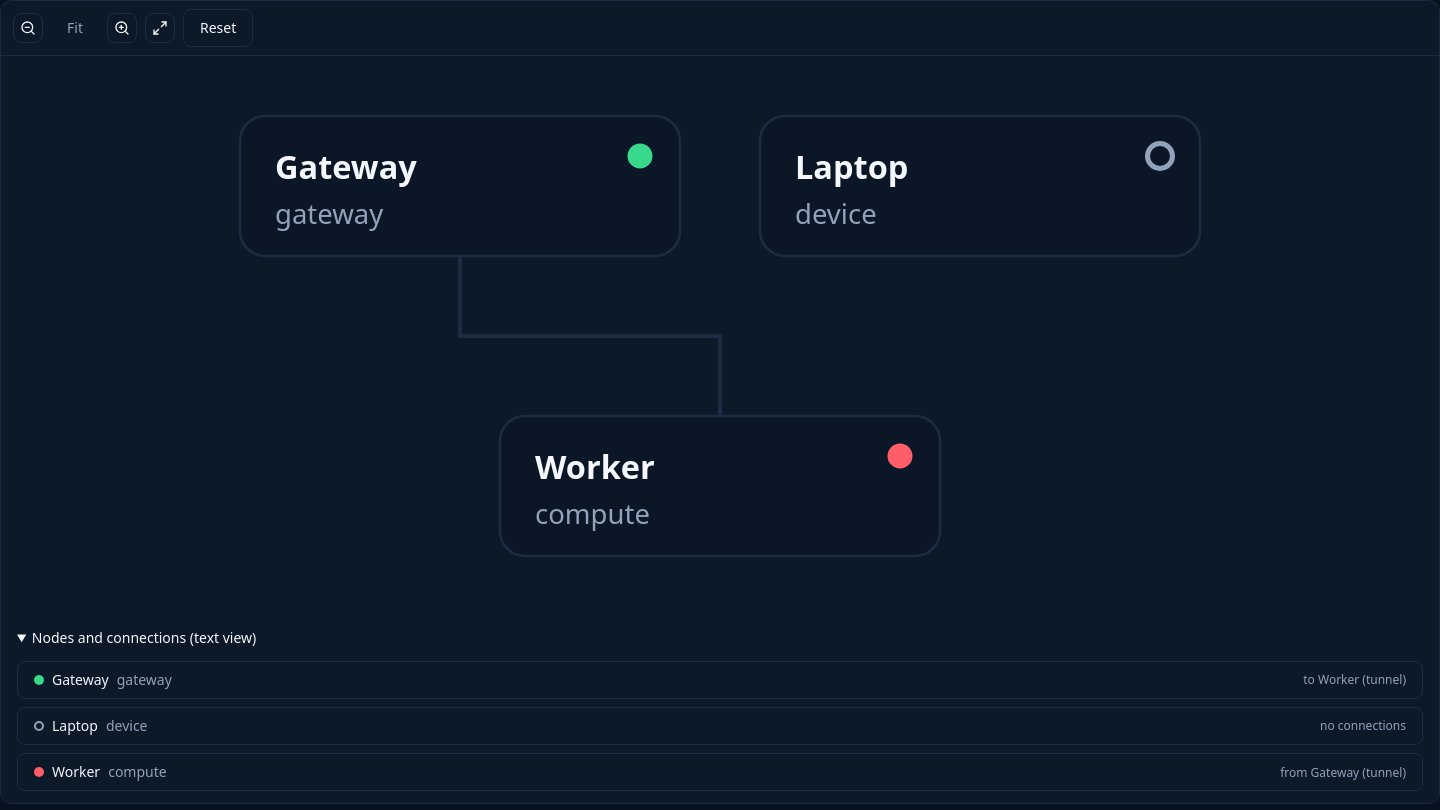
Test: TopologyView › zooms and resets
expect the text "Fit" is shown: met, box left=67, top=18, right=83, bottom=37
Click the button named "Zoom in". click: coordinates (122, 28)
box: left=107, top=13, right=137, bottom=43
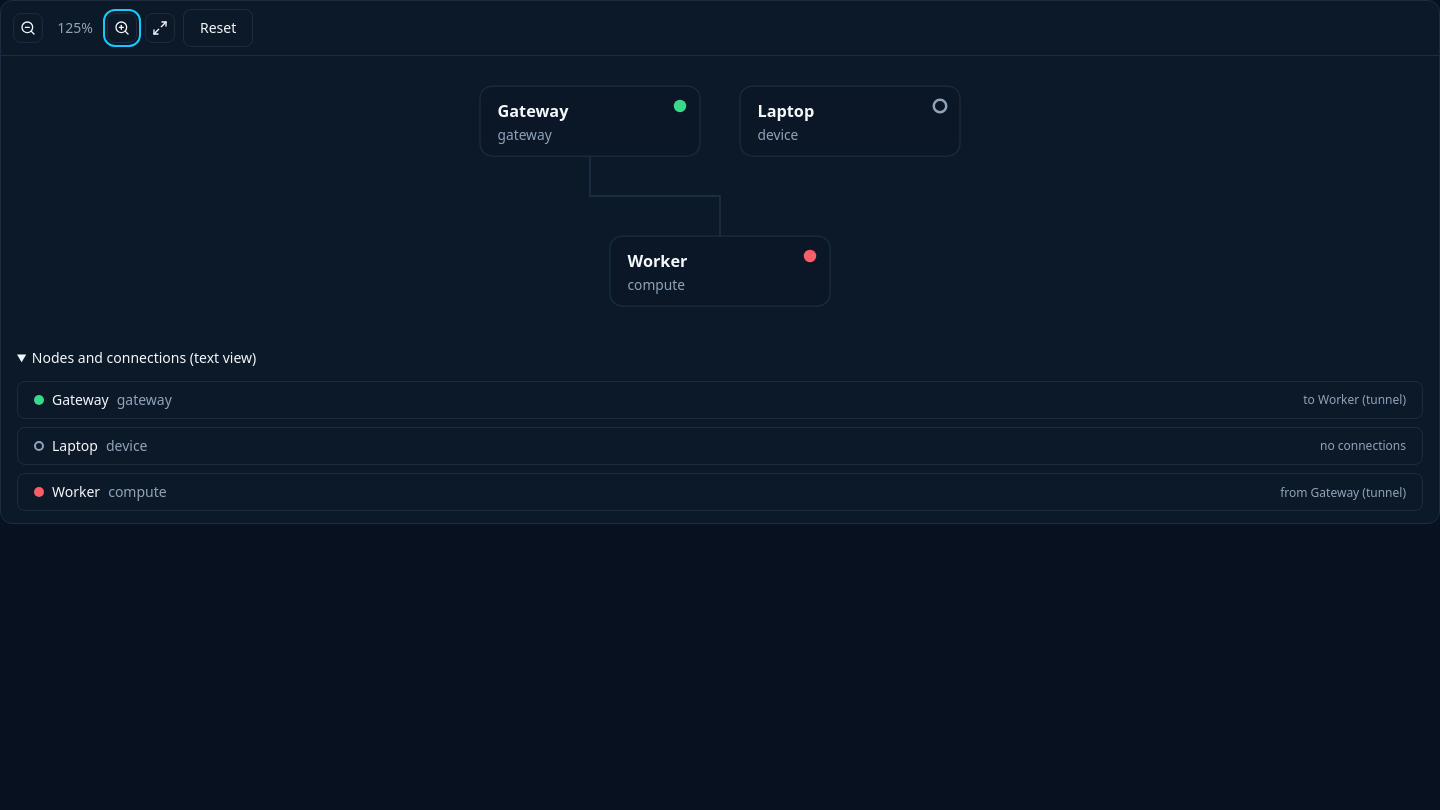
expect the text "125%" is shown: met, box left=57, top=18, right=93, bottom=37
Click the button "Reset". click: coordinates (218, 28)
box: left=183, top=9, right=253, bottom=47
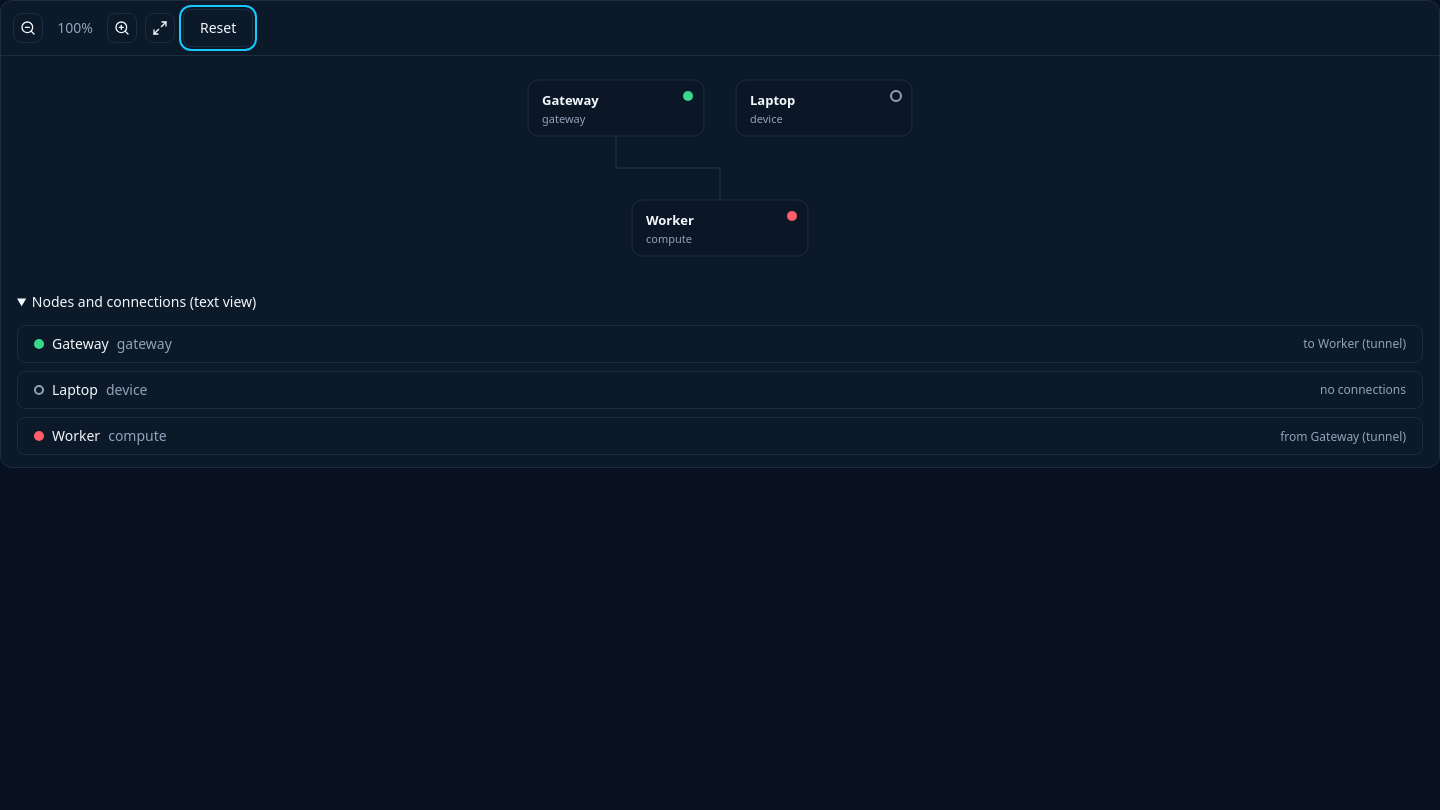
expect the text "100%" is shown: met, box left=57, top=18, right=93, bottom=37
Click the button named "Zoom to fit". click: coordinates (160, 28)
box: left=145, top=13, right=175, bottom=43
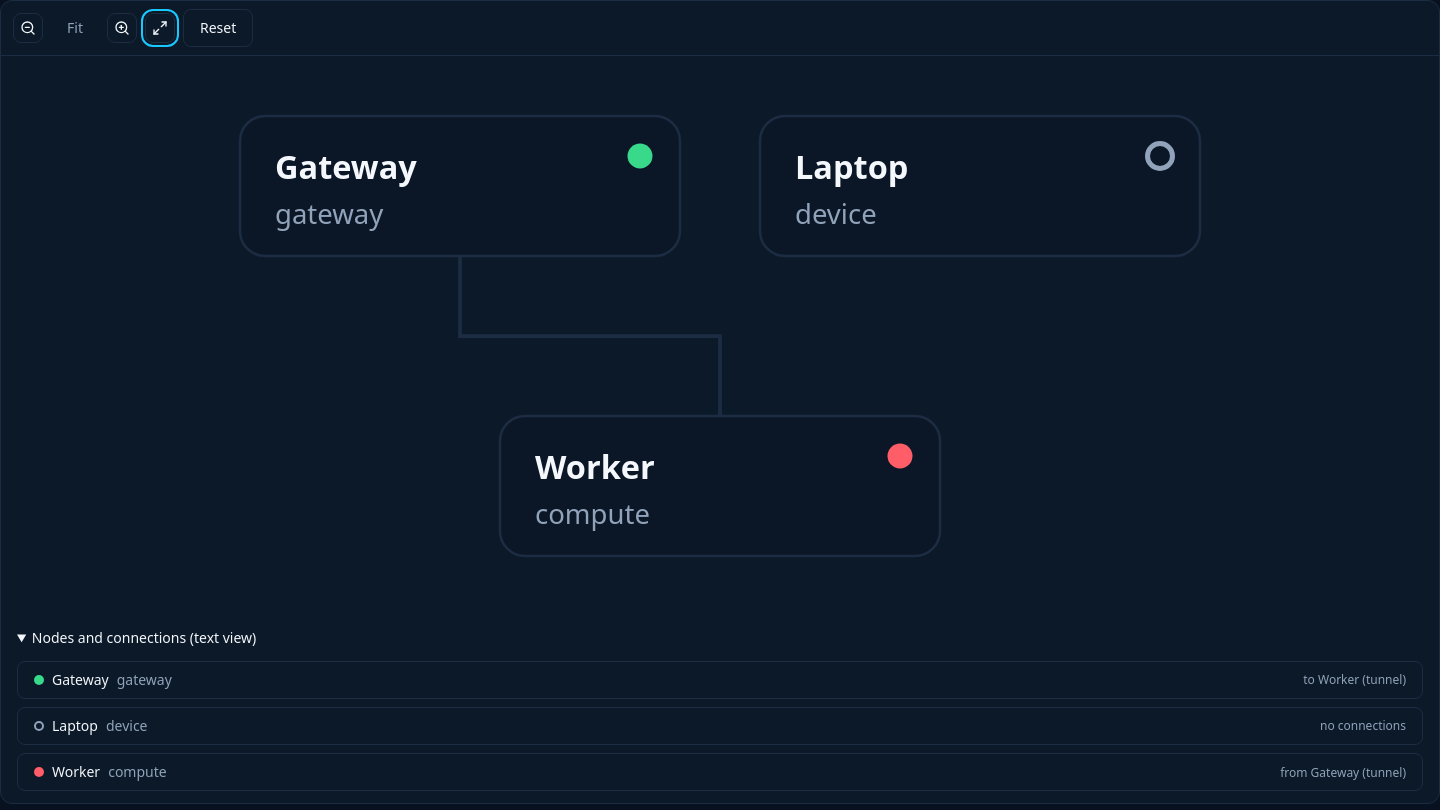
expect the text "Fit" is shown: met, box left=67, top=18, right=83, bottom=37
